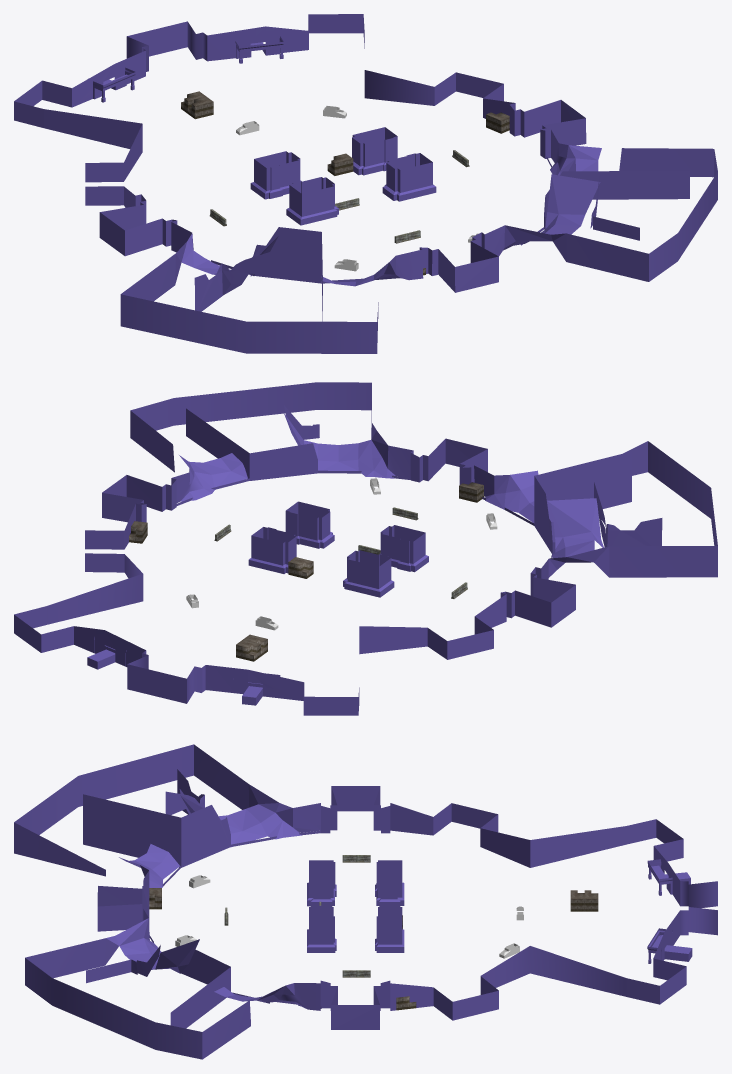
The model's file is France_Col_Move.FBX.
3 views of the same model, one above another, from view 1: azimuth 30°, elevation 25°; view 2: azimuth 150°, elevation 25°; view 3: azimuth 270°, elevation 25° (orthographic). The views are drawn at different scales.
Parts seen in each view (by area): view 1: Col; view 2: Col; view 3: Col.
Boxes of the visible parts, x1=… form: Col: x1=14, y1=14, x2=717, y2=353; Col: x1=14, y1=382, x2=717, y2=715; Col: x1=14, y1=744, x2=717, y2=1059.
Size of the model in its own units: 242 by 20.38 by 253.
